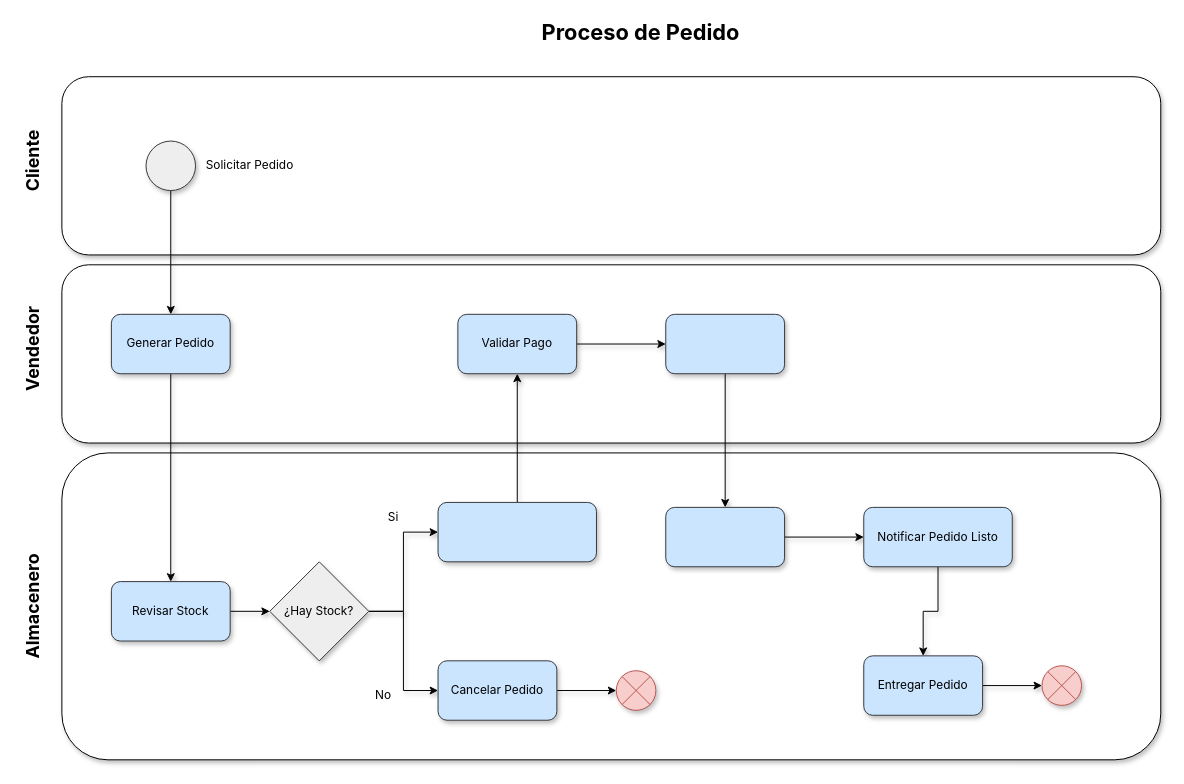
Some shapes in this 1184 by 784 pixel diagram are drawn without their labels. The centre of each missing label's shape, as x and y in pixels:
Confirmar existencia de Stock: the point at 517,533
Confirmar Pago: the point at 726,345
Preparar Pedido: the point at 726,538
